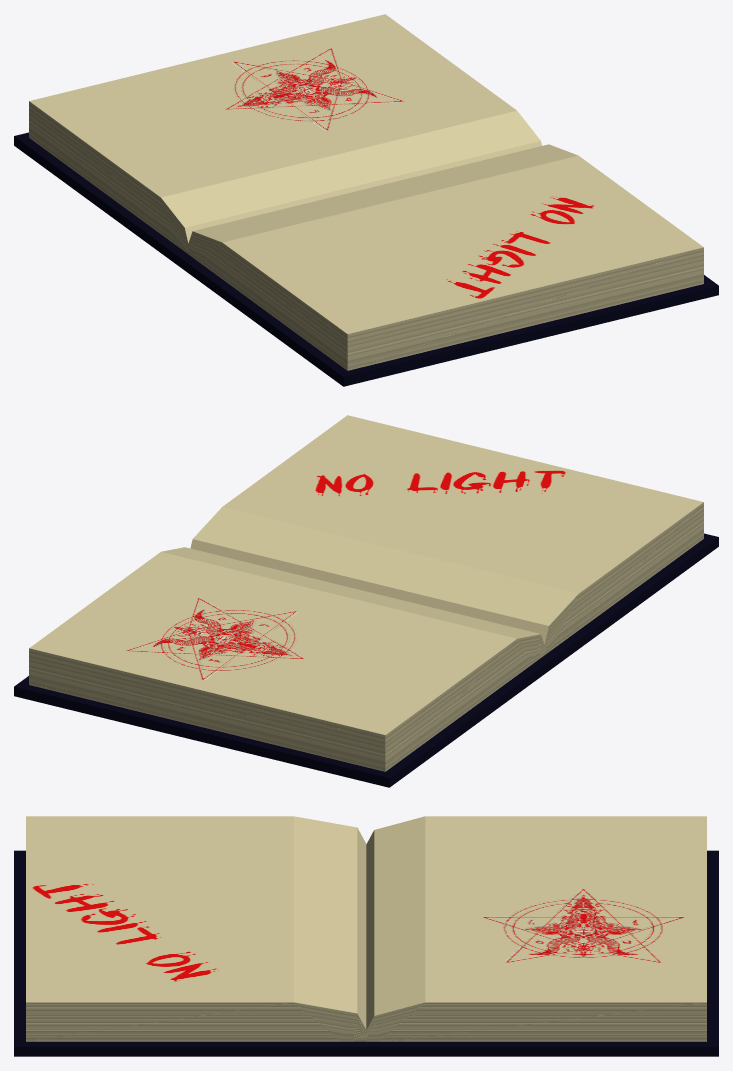
File: libro.fbx
The picture shows the model from 3 angles, top to bottom: view 1: azimuth 30°, elevation 25°; view 2: azimuth 150°, elevation 25°; view 3: azimuth 270°, elevation 25°; orthographic projection. The views are drawn at different scales.
Parts seen in each view (by area): view 1: Cube; view 2: Cube; view 3: Cube.
Part boxes in pixels (left/top/right/bottom): Cube: left=14, top=14, right=718, bottom=386; Cube: left=14, top=415, right=718, bottom=787; Cube: left=14, top=816, right=718, bottom=1056.
Bounding box in the file's own units: 37.5 × 4.41 × 57.
